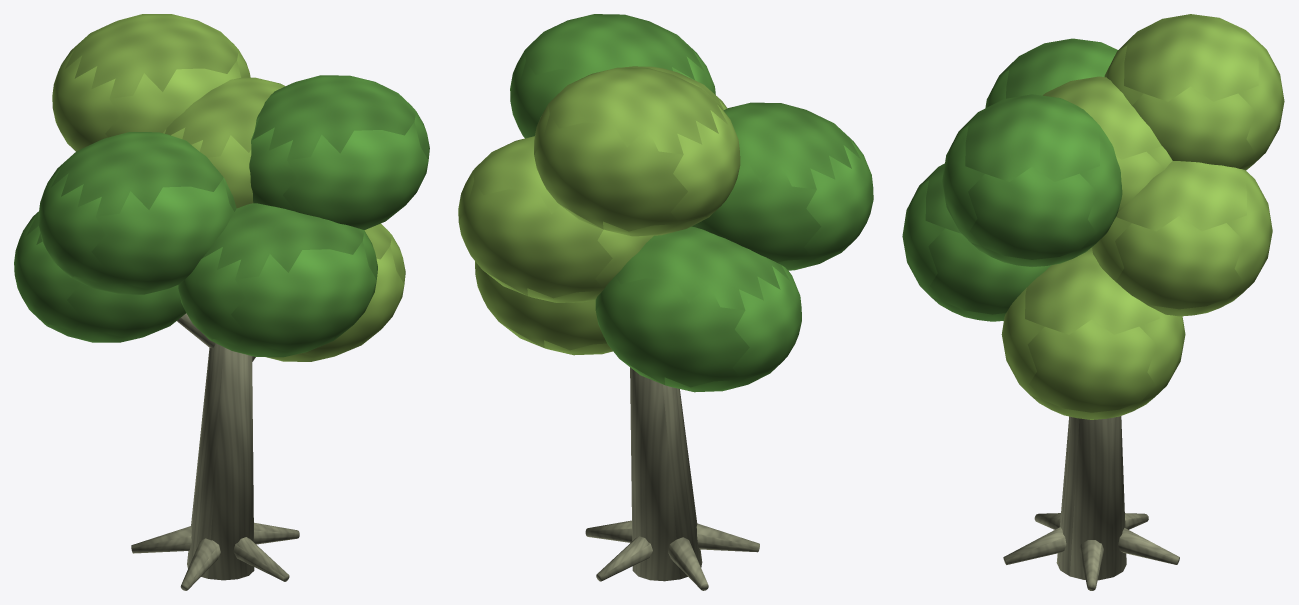
File: beech_young.glb
3 renders of one model, left to right at view 1: azimuth 30°, elevation 25°; view 2: azimuth 150°, elevation 25°; view 3: azimuth 270°, elevation 25°, orthographic. The views are drawn at different scales.
Visible parts, largest first — view 1: beech_young.001; view 2: beech_young.001; view 3: beech_young.001.
Boxes of the visible parts, x1,y1,x2,y2 form: beech_young.001: (14, 14, 429, 590); beech_young.001: (458, 14, 873, 590); beech_young.001: (902, 14, 1284, 590).
Bounding box in the file's own units: 5.81 × 8.01 × 5.24.
Materials: 1 (1 with a texture image).
